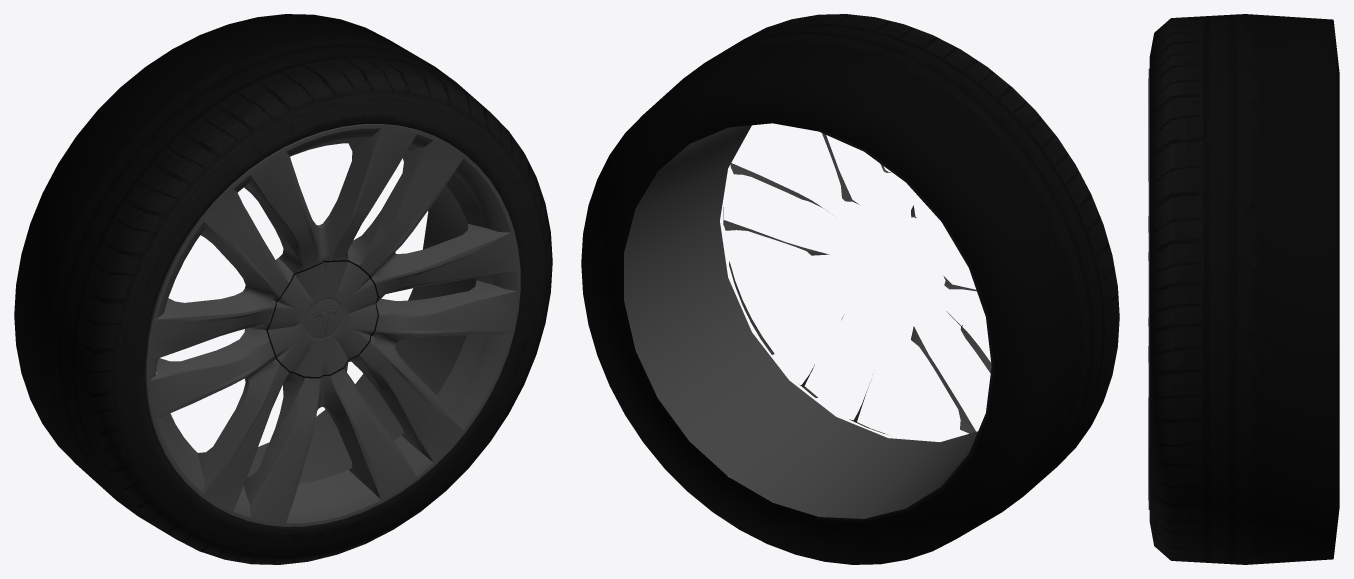
Rendered from Wheel_Helix_Silver.glb.
3 views of the same model, side by side, from view 1: azimuth 30°, elevation 25°; view 2: azimuth 150°, elevation 25°; view 3: azimuth 270°, elevation 25° (orthographic). The views are drawn at different scales.
Visible parts, largest first — view 1: Wheel_Helix; view 2: Wheel_Helix; view 3: Wheel_Helix.
Boxes of the visible parts, x1,y1,x2,y2 form: Wheel_Helix: [14, 14, 552, 564]; Wheel_Helix: [581, 14, 1119, 564]; Wheel_Helix: [1148, 14, 1339, 564].
Size of the model in its own units: 0.7408 by 0.7394 by 0.2572.
2 materials, 2 textured.
